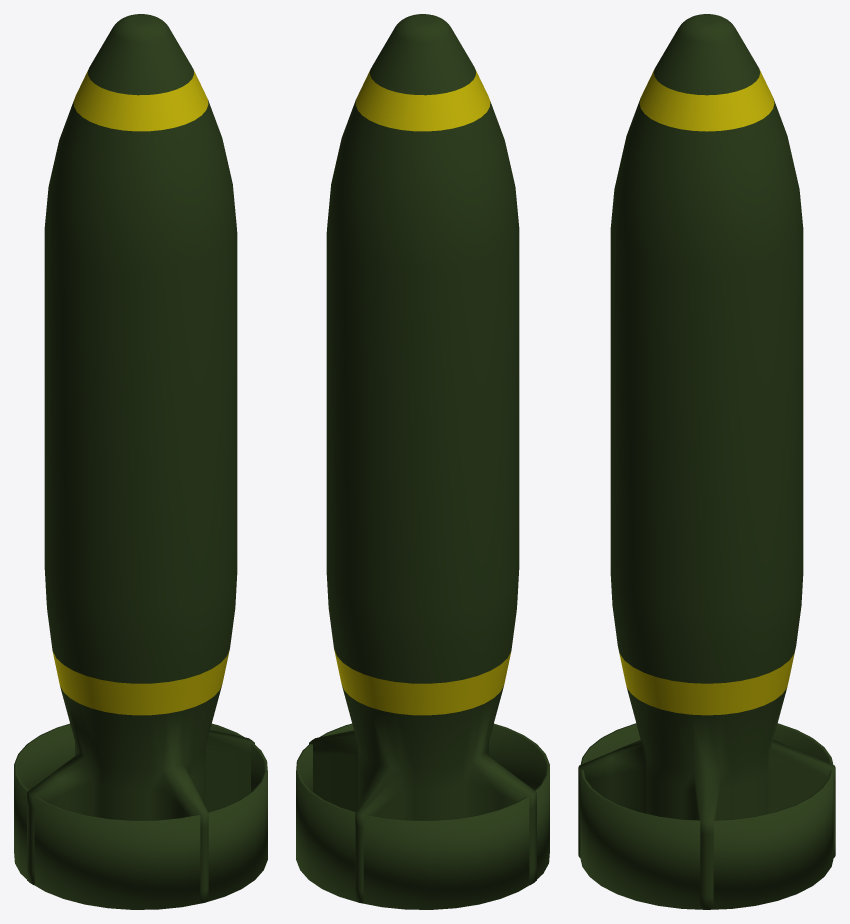
File: bomb.fbx
3 renders of one model, left to right at view 1: azimuth 30°, elevation 25°; view 2: azimuth 150°, elevation 25°; view 3: azimuth 270°, elevation 25°, orthographic.
Visible parts, largest first — view 1: Bomb; view 2: Bomb; view 3: Bomb.
Part boxes in pixels (x1,y1,x2,y2): Bomb: (14,14,267,909); Bomb: (296,14,549,909); Bomb: (578,14,835,909).
Bounding box in the file's own units: 19.58 × 72.27 × 19.59.
